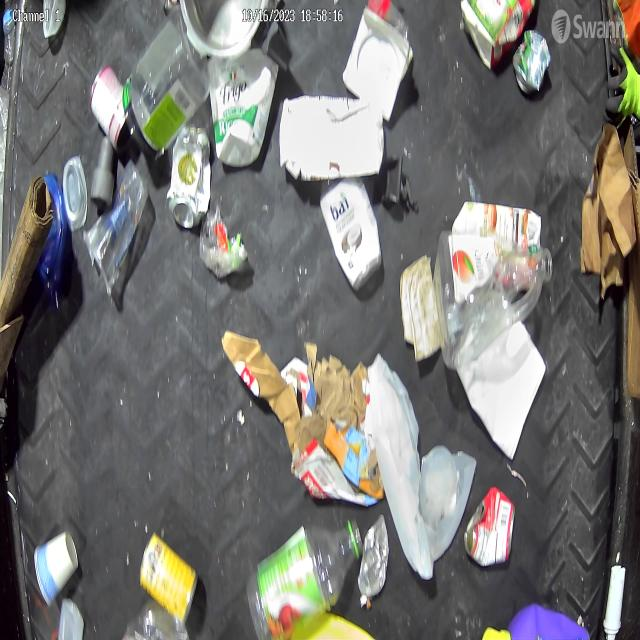can: (138, 534, 198, 622), (166, 124, 211, 229), (464, 486, 514, 564), (89, 63, 131, 152), (357, 514, 389, 600), (511, 29, 551, 92)
milk_jug: (367, 352, 435, 580), (279, 94, 384, 179)
non_white_jug: (434, 231, 552, 369), (462, 0, 536, 70), (453, 199, 542, 250), (38, 172, 68, 310), (483, 603, 590, 640)
plastic_bottle: (246, 518, 362, 640), (3, 0, 16, 62)
